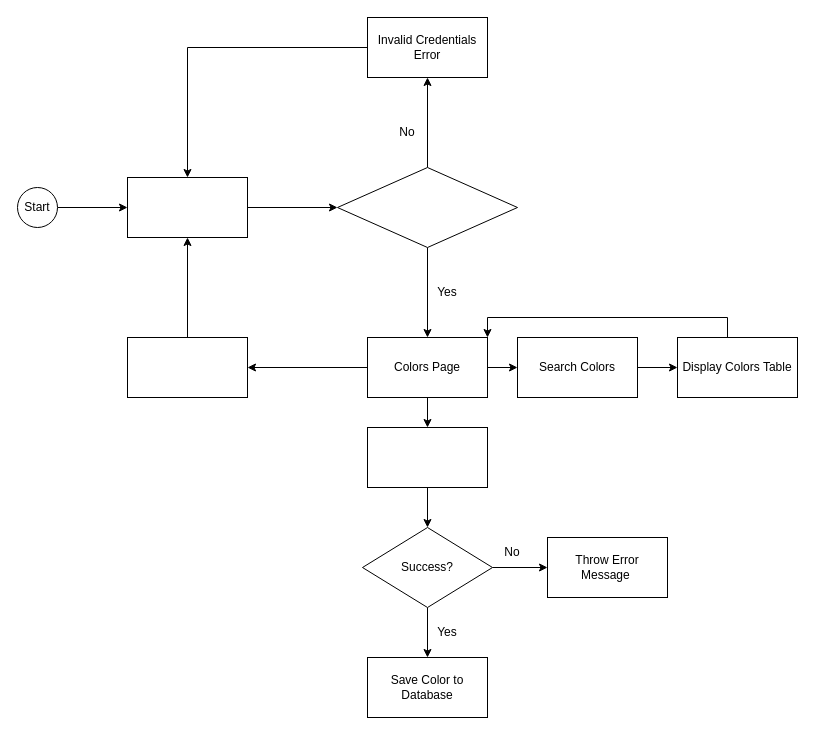
This 815x735 diagram has some shape labels left out. The centre of each missing label's shape, as x and y in pixels:
"Add New Color" goes at pixel 427 457.
"Login Page" goes at pixel 187 207.
"Logout" goes at pixel 187 367.
"User Authenticated?" goes at pixel 427 207.
